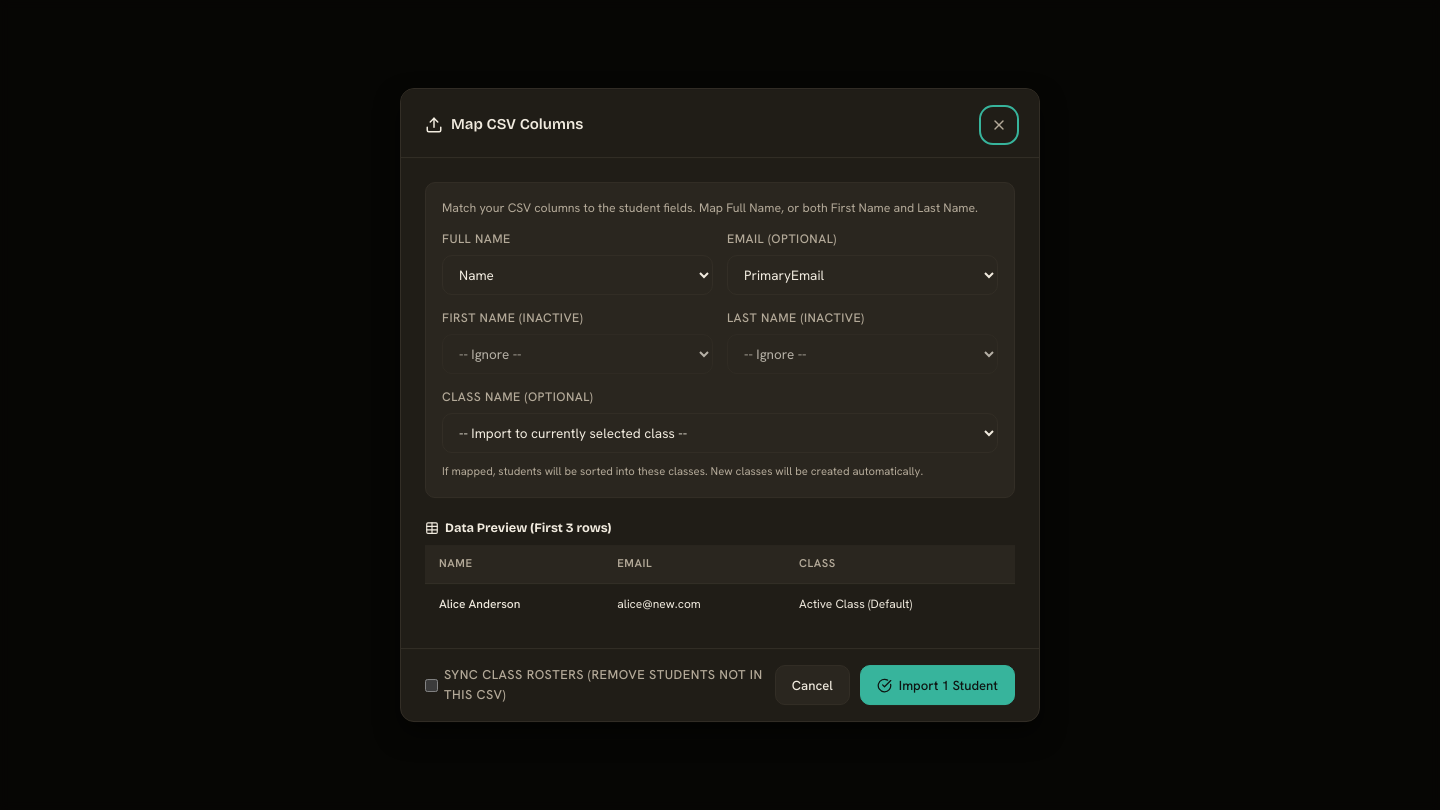
Test: CsvImportModal › lets the teacher change the email column mapping
Select "BackupEmail" in the dropdown below "Email (optional)": x=862, y=275 x1=727 y1=255 x2=998 y2=295
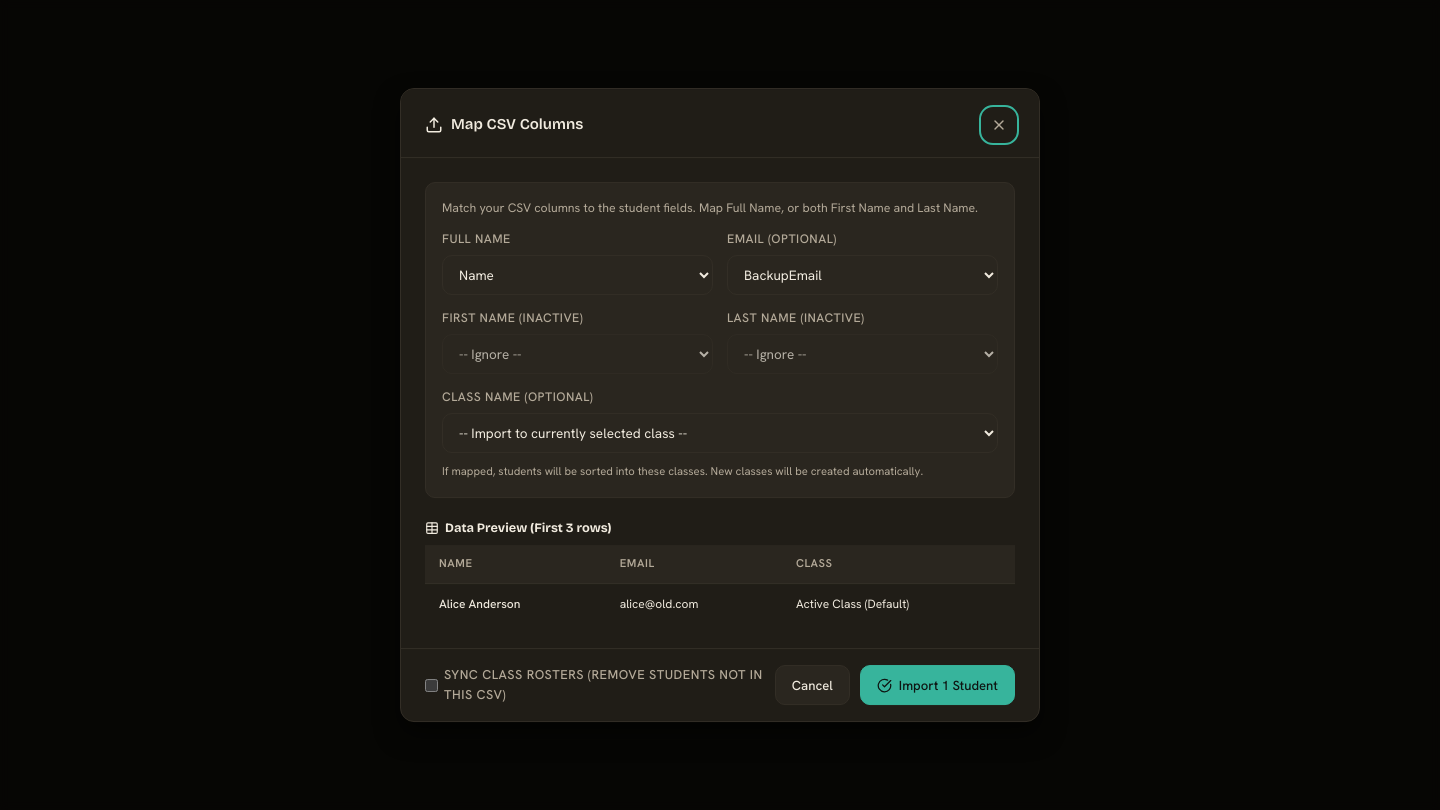
expect the text "alice@old.com" is shown: met, box x1=606 y1=583 x2=782 y2=624
